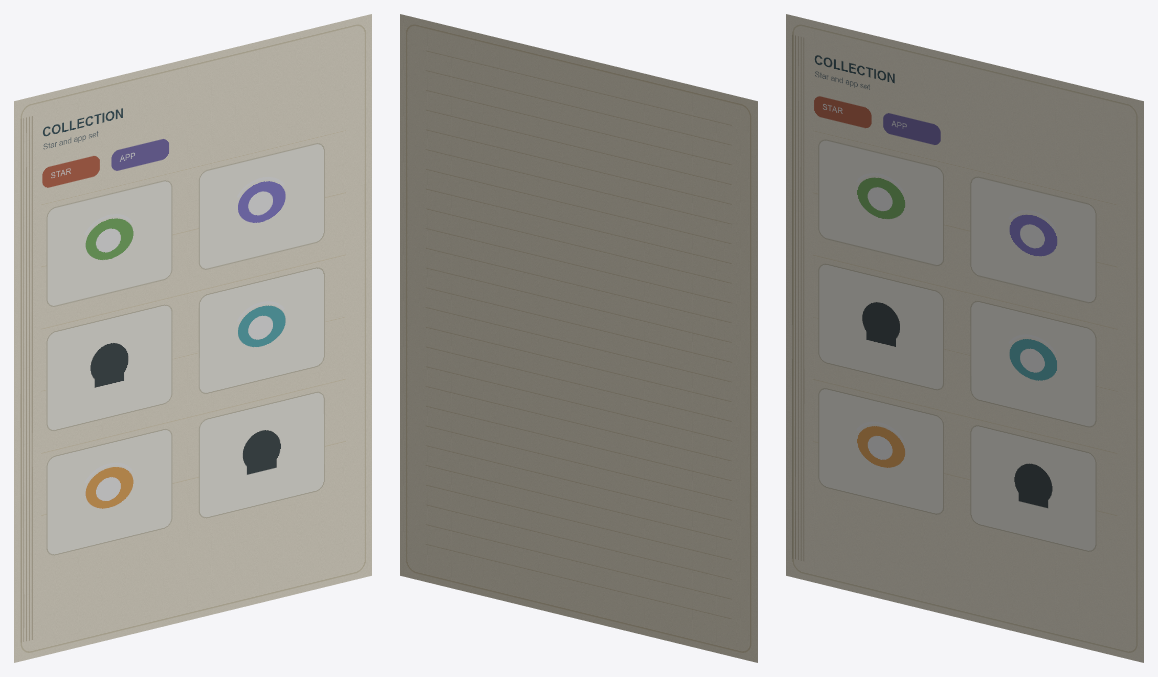
Rendered from sb3d_page_grid_32.obj.
The picture shows the model from 3 angles, left to right: view 1: azimuth 30°, elevation 25°; view 2: azimuth 150°, elevation 25°; view 3: azimuth 330°, elevation 25°; orthographic projection.
Parts seen in each view (by area): view 1: page_front, page_back; view 2: page_back, page_front; view 3: page_front, page_back.
Part boxes in pixels (x1,y1,x2,y2): page_front: [14, 14, 371, 662]; page_back: [14, 14, 371, 662]; page_back: [400, 14, 757, 662]; page_front: [400, 14, 757, 662]; page_front: [786, 14, 1143, 662]; page_back: [786, 14, 1143, 662].
Bounding box in the file's own units: 10.24 × 15.36 × 0.015.
2 materials, 2 textured.
